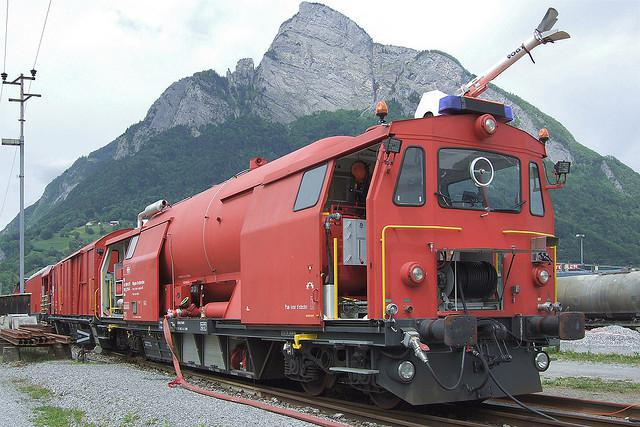Train: (14, 6, 588, 412), (559, 271, 640, 323)
